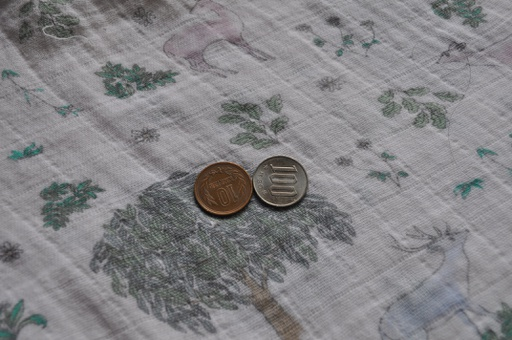100yen: (252, 155, 307, 208)
10yen: (194, 162, 252, 216)
